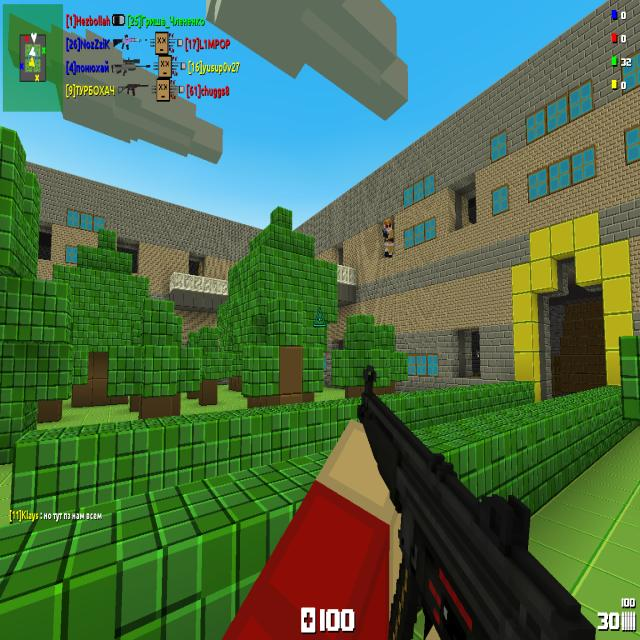enemy: (382, 218, 394, 258), (477, 342, 480, 360)
